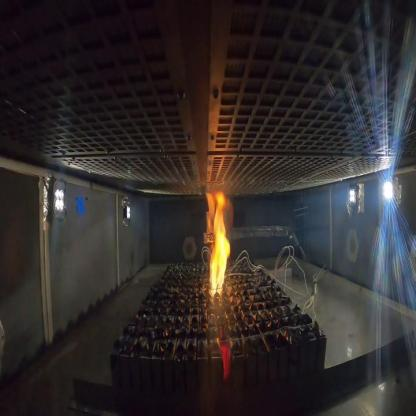fire: (204, 186, 231, 301)
